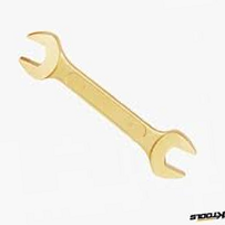Wrench: (19, 25, 207, 190)
